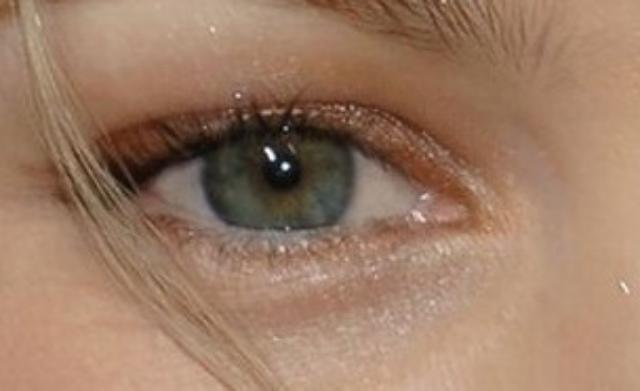eye: (200, 113, 360, 228)
